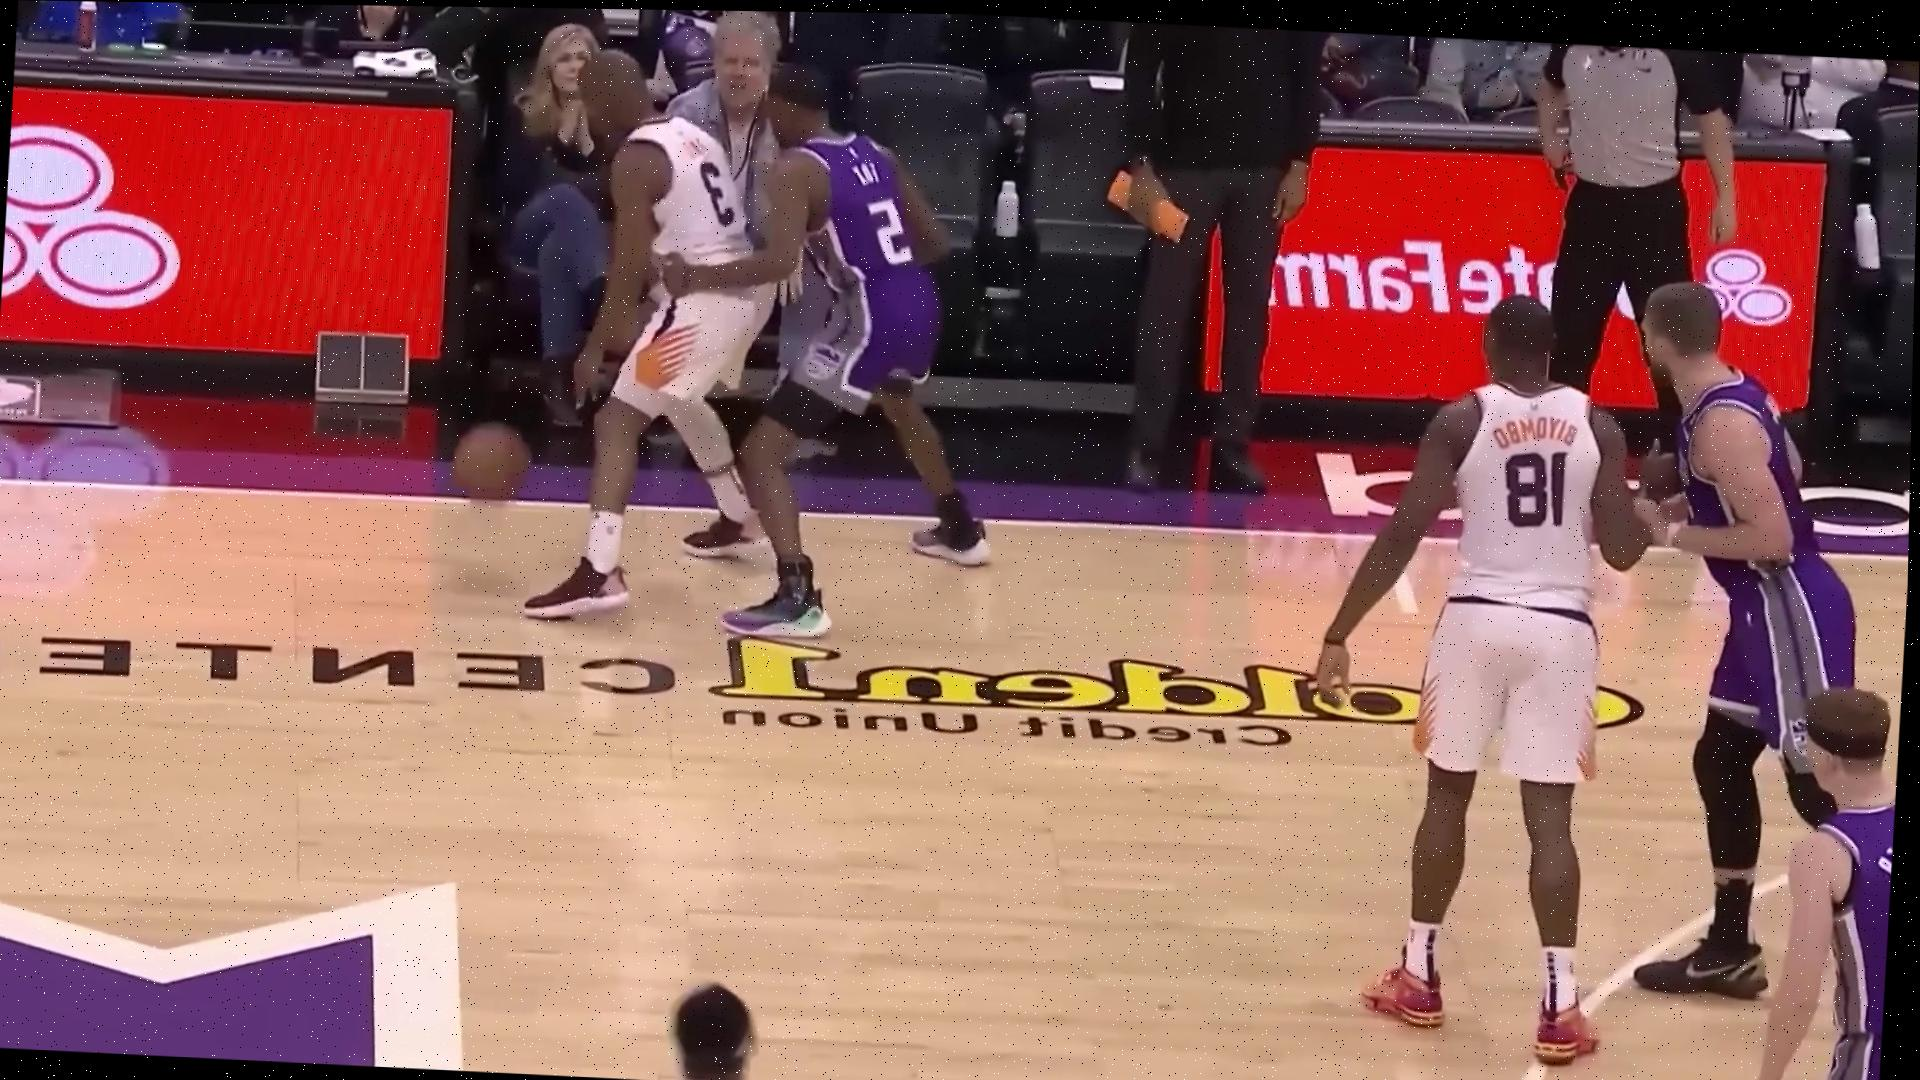foul: (454, 32, 1039, 647)
